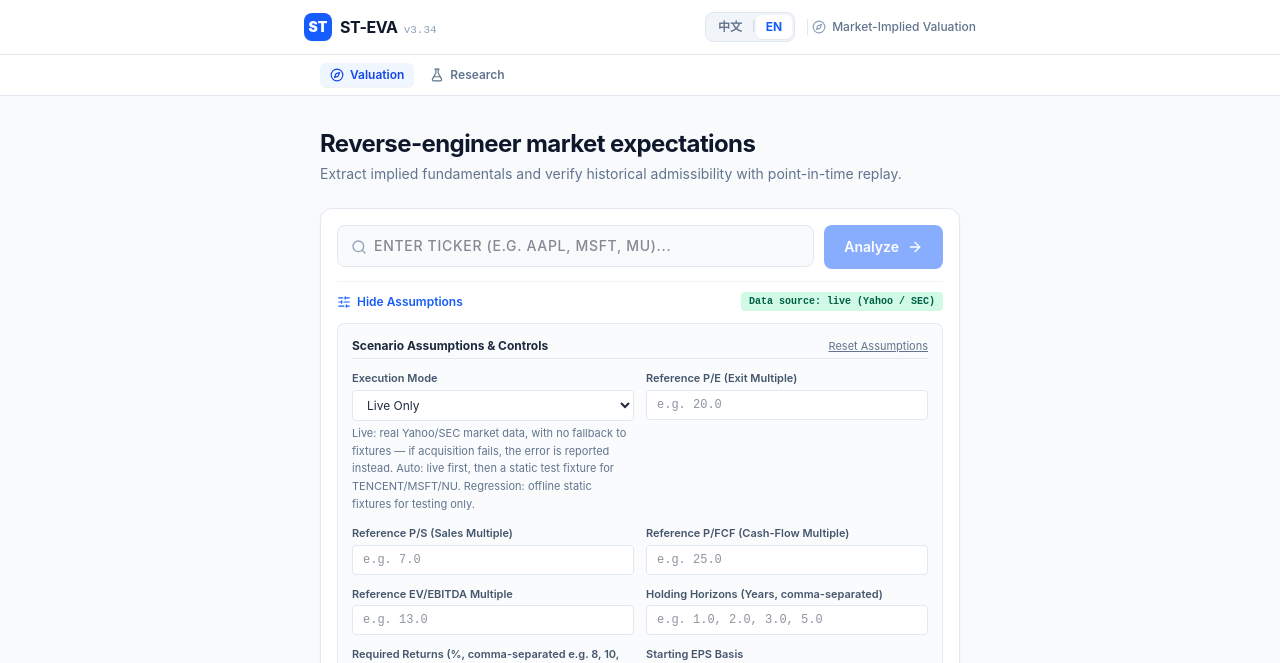
ST-EVA Frontend App Component › renders TSM contract refusal correctly as 1st class UX rather than generic error
Type "TSM" into the field with placeholder "Enter ticker (e.g. AAPL, MSFT, MU)...".
click(576, 246); type("TSM")  # box [337,225,814,267]
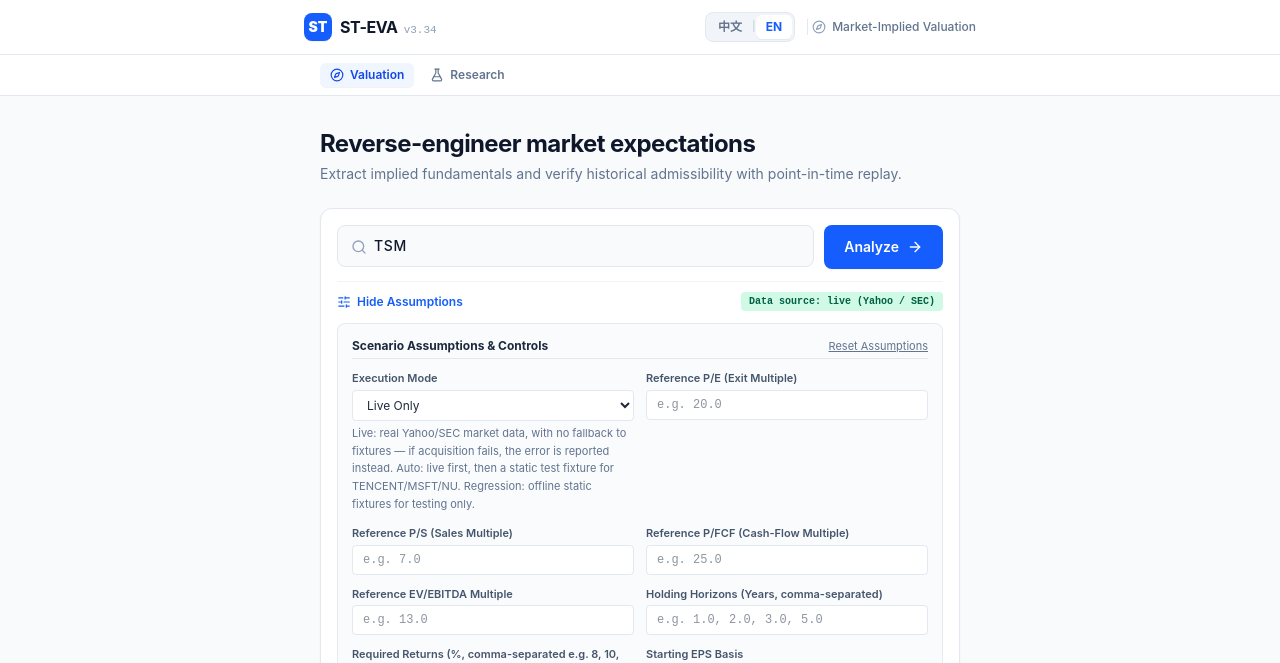
Click the button "Analyze".
click(884, 247)  # box [824,225,943,269]
(page scrolled)
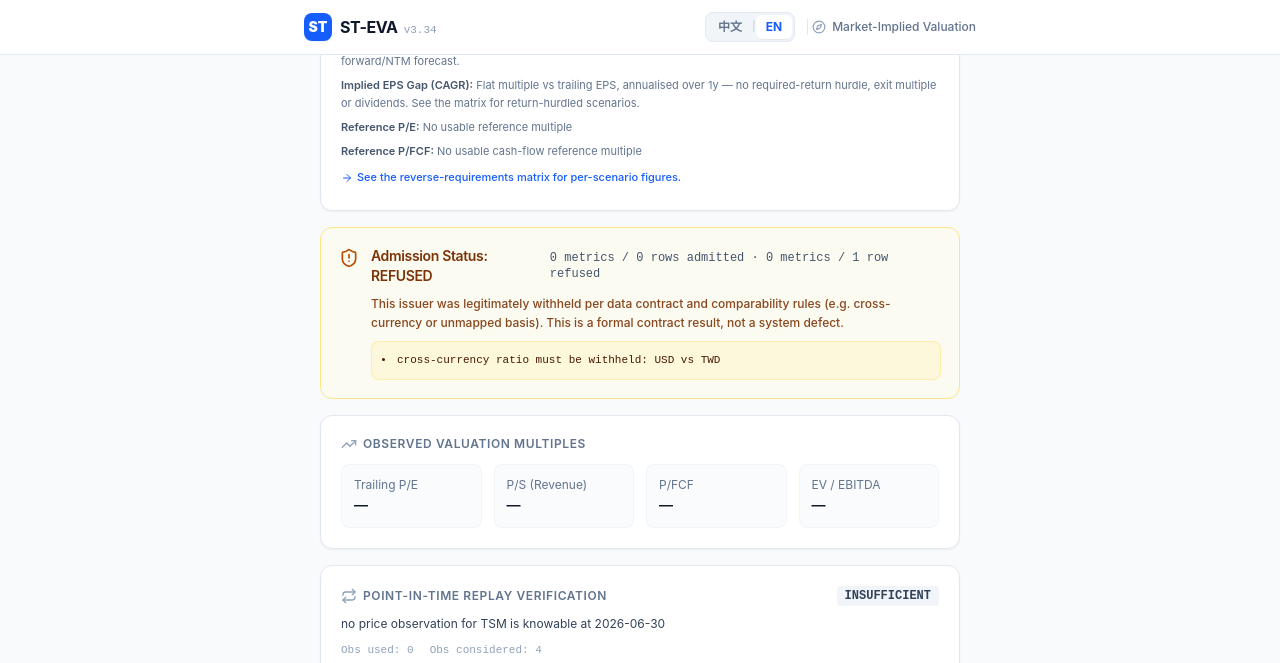
expect the text "Admission Status: REFUSED" is shown: met, box [371,247,488,284]
expect the list item "cross-currency ratio must be withheld: USD vs TWD" is shown: met, box [397,354,720,366]
